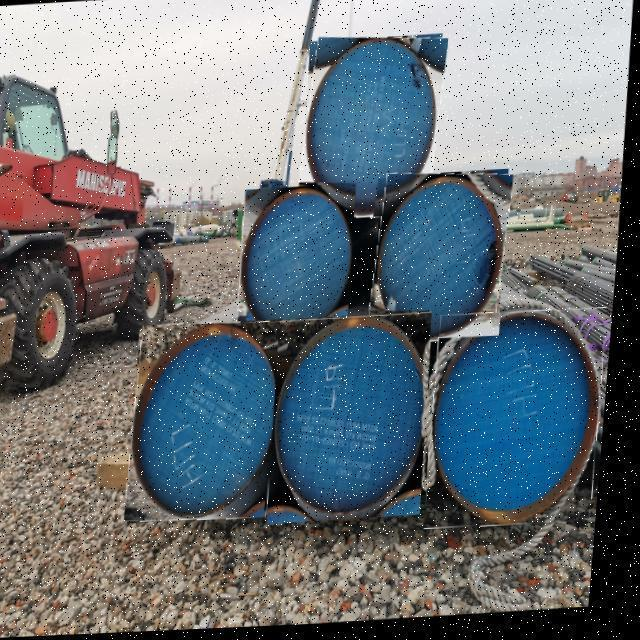pipe: (433, 314, 612, 532), (276, 316, 437, 526), (133, 324, 290, 522), (298, 39, 449, 221), (371, 176, 516, 345), (241, 186, 359, 346)
